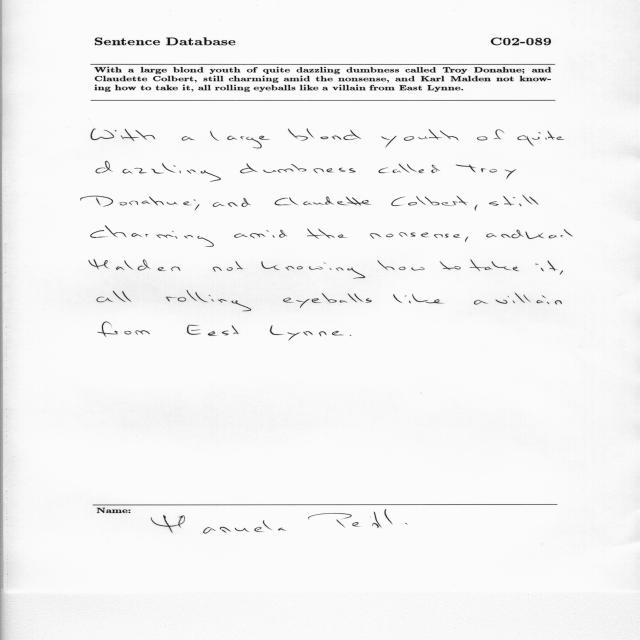word: (96, 161, 221, 182), (91, 226, 214, 247), (262, 261, 366, 279), (166, 290, 251, 311), (381, 129, 459, 148), (283, 293, 372, 308), (391, 196, 478, 211), (240, 164, 356, 174), (270, 326, 344, 341), (89, 259, 180, 271), (210, 131, 270, 149), (81, 196, 178, 207), (370, 232, 468, 242), (456, 164, 517, 179), (288, 129, 361, 141), (274, 197, 371, 206), (496, 293, 562, 305), (98, 322, 150, 337), (91, 129, 155, 141), (517, 131, 564, 146), (470, 260, 519, 272), (187, 325, 238, 336), (378, 164, 440, 173), (378, 260, 425, 271), (393, 294, 443, 304), (526, 229, 573, 239), (235, 230, 288, 238), (307, 229, 347, 239), (503, 196, 538, 207), (97, 291, 131, 302), (213, 198, 251, 207), (213, 261, 243, 272), (477, 130, 504, 141), (548, 260, 563, 275), (440, 261, 461, 270), (501, 230, 524, 238), (183, 200, 199, 211), (474, 300, 488, 305), (182, 136, 195, 141), (535, 264, 544, 271), (489, 201, 498, 206), (486, 234, 497, 238), (350, 335, 352, 336)
